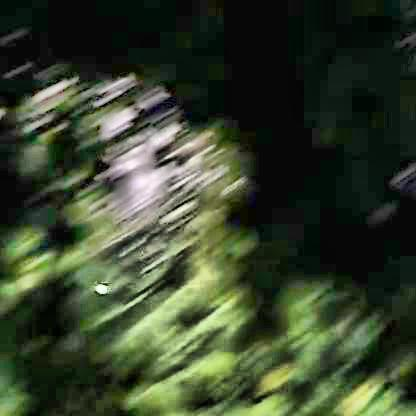golfball: (92, 283, 105, 293)
